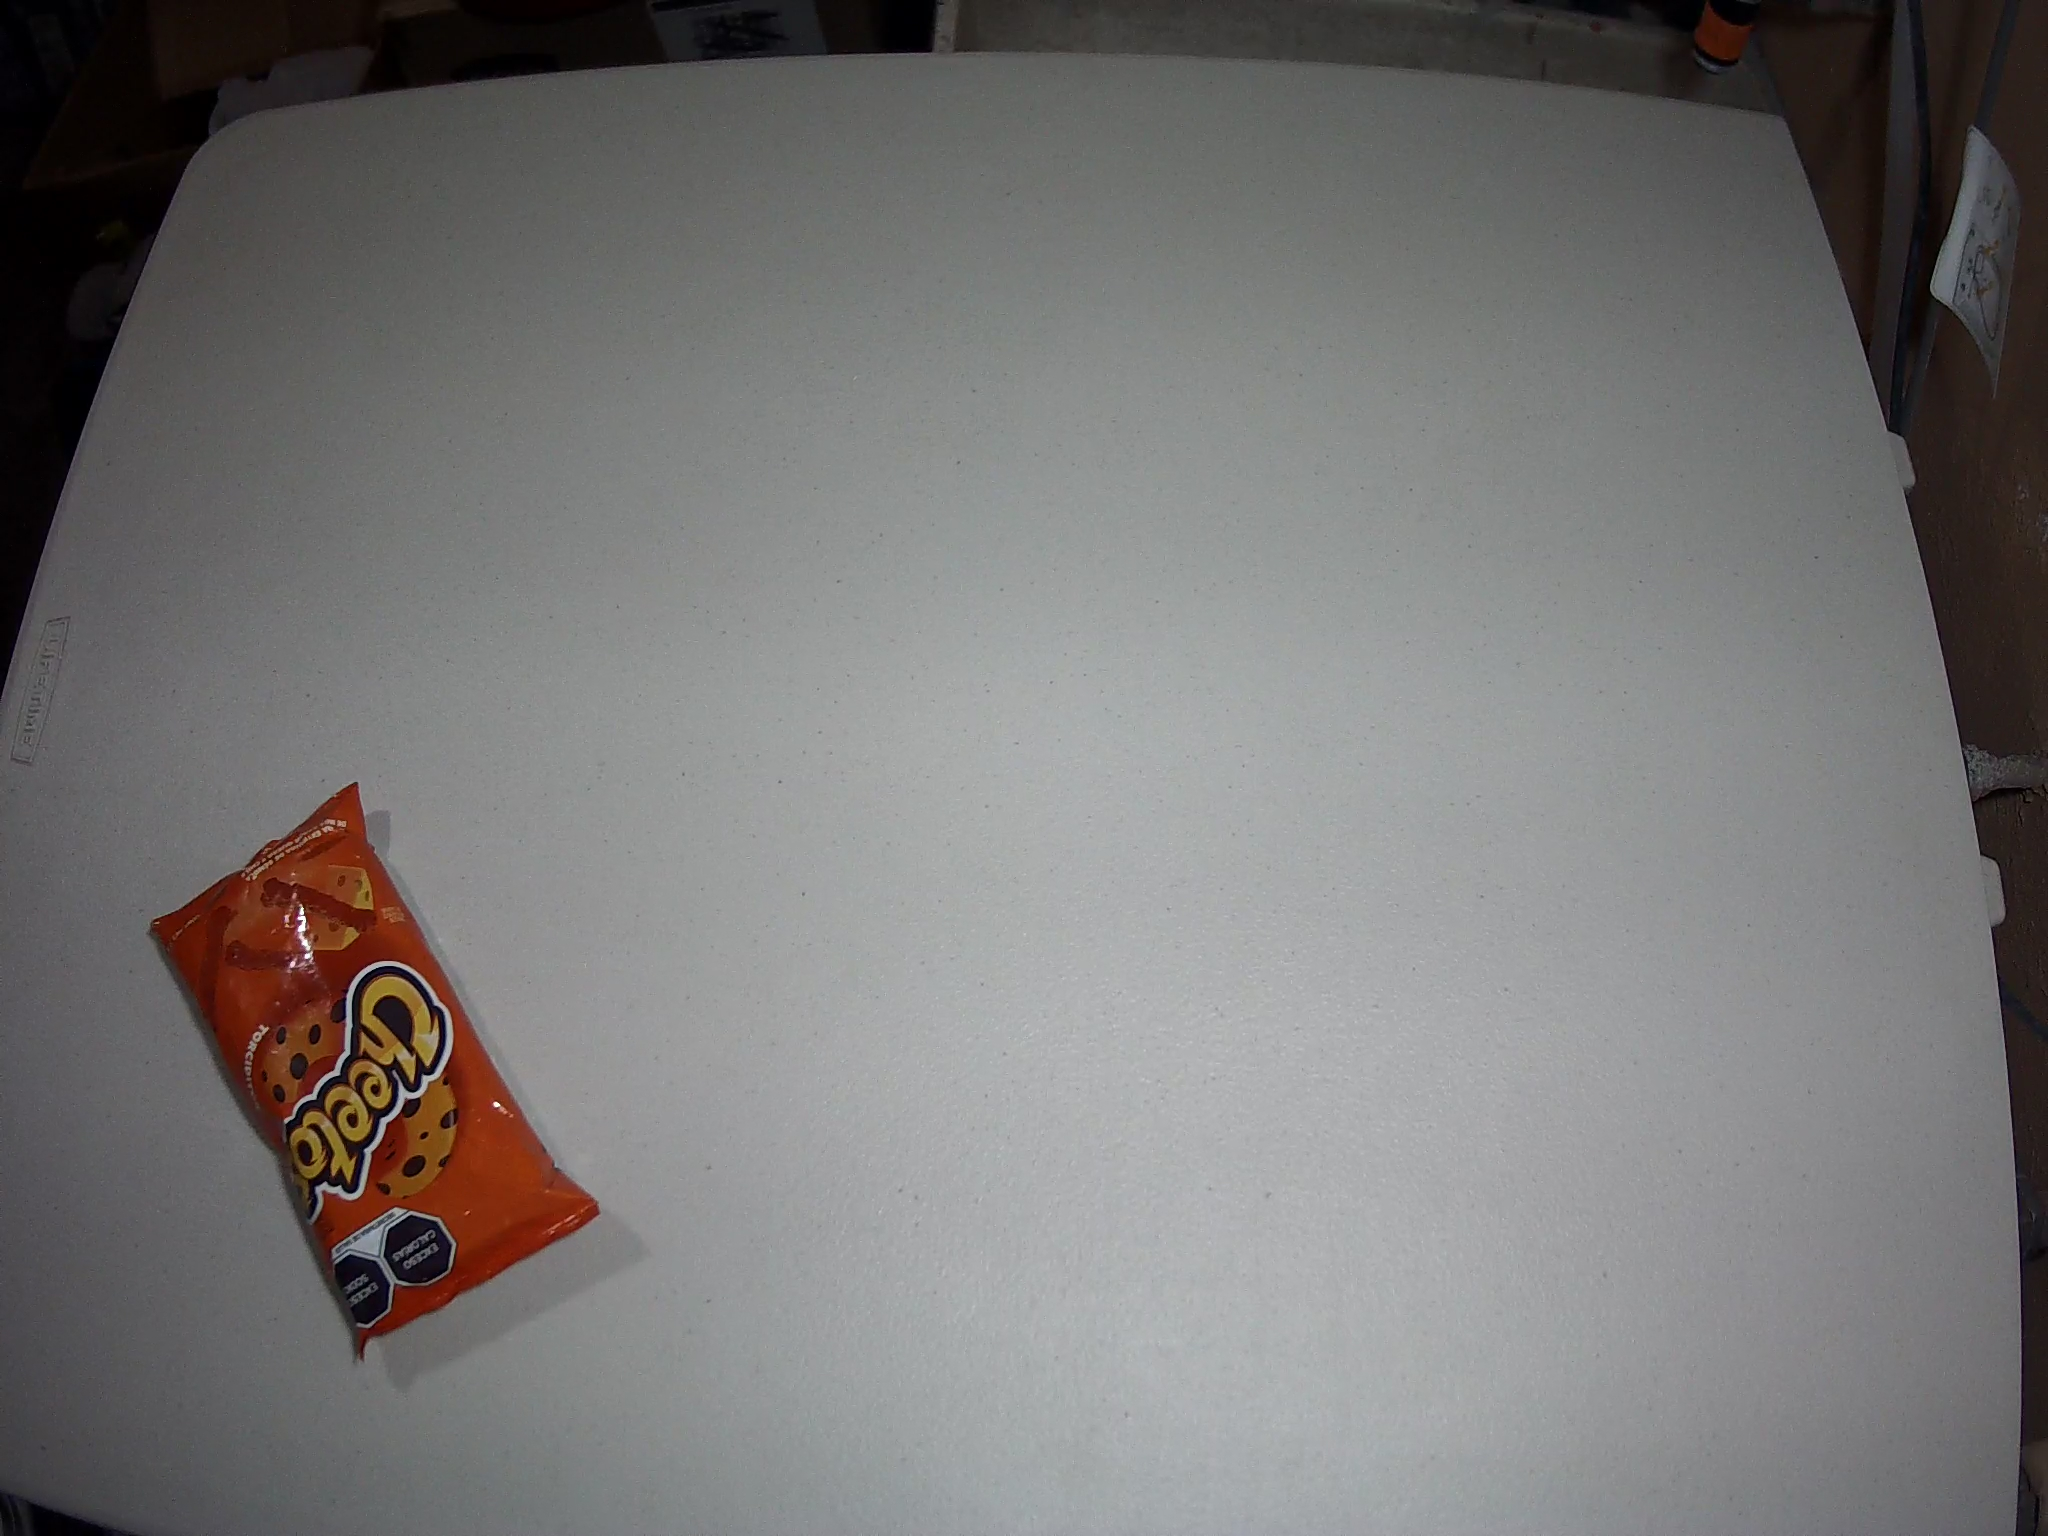CheetosTorciditos_55_F: (148, 784, 605, 1365)
